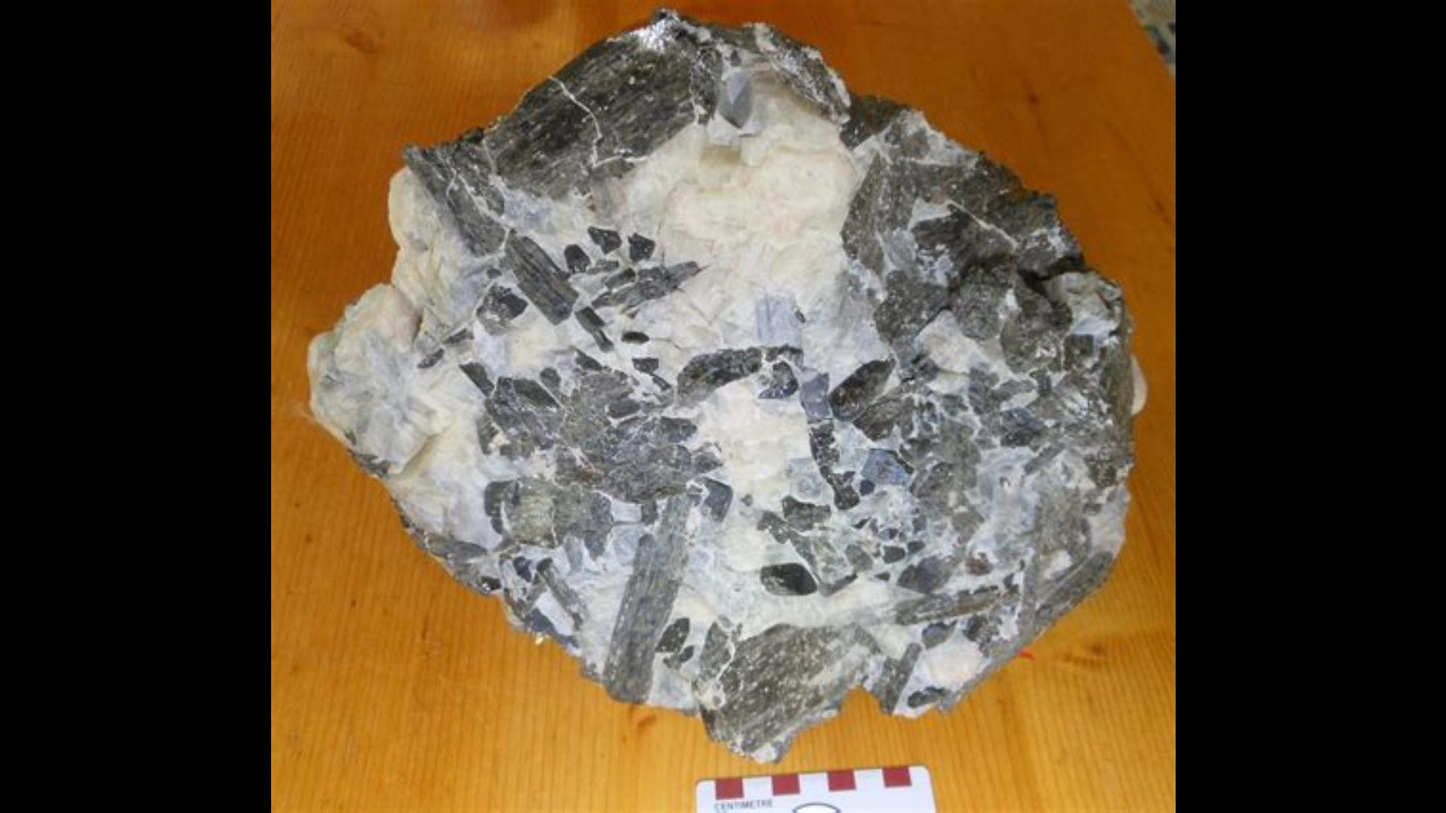rock: (310, 11, 1135, 760)
